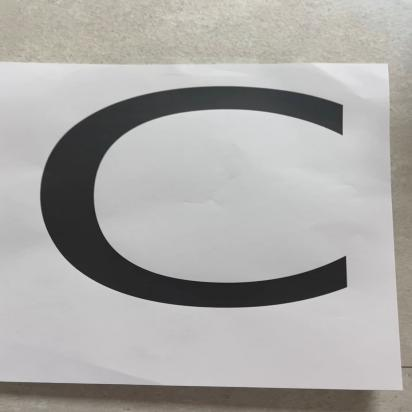seat: (5, 59, 406, 389)
